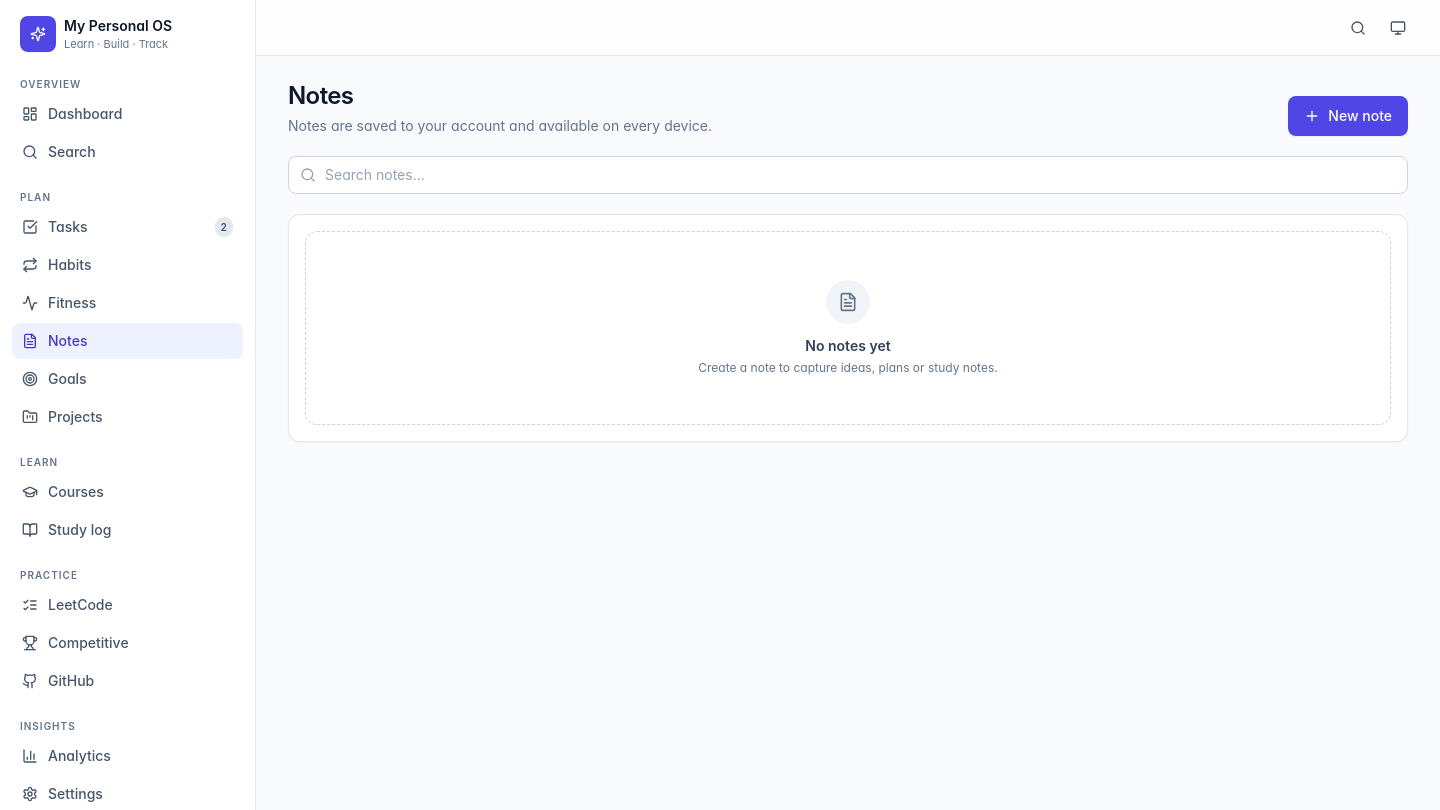
Test: fitness and notes › creates searchable notes
Expected: the heading "Notes" is shown, [288,81,354,110]
Click the button "New note".
click(1348, 116)  # box [1288,96,1408,136]
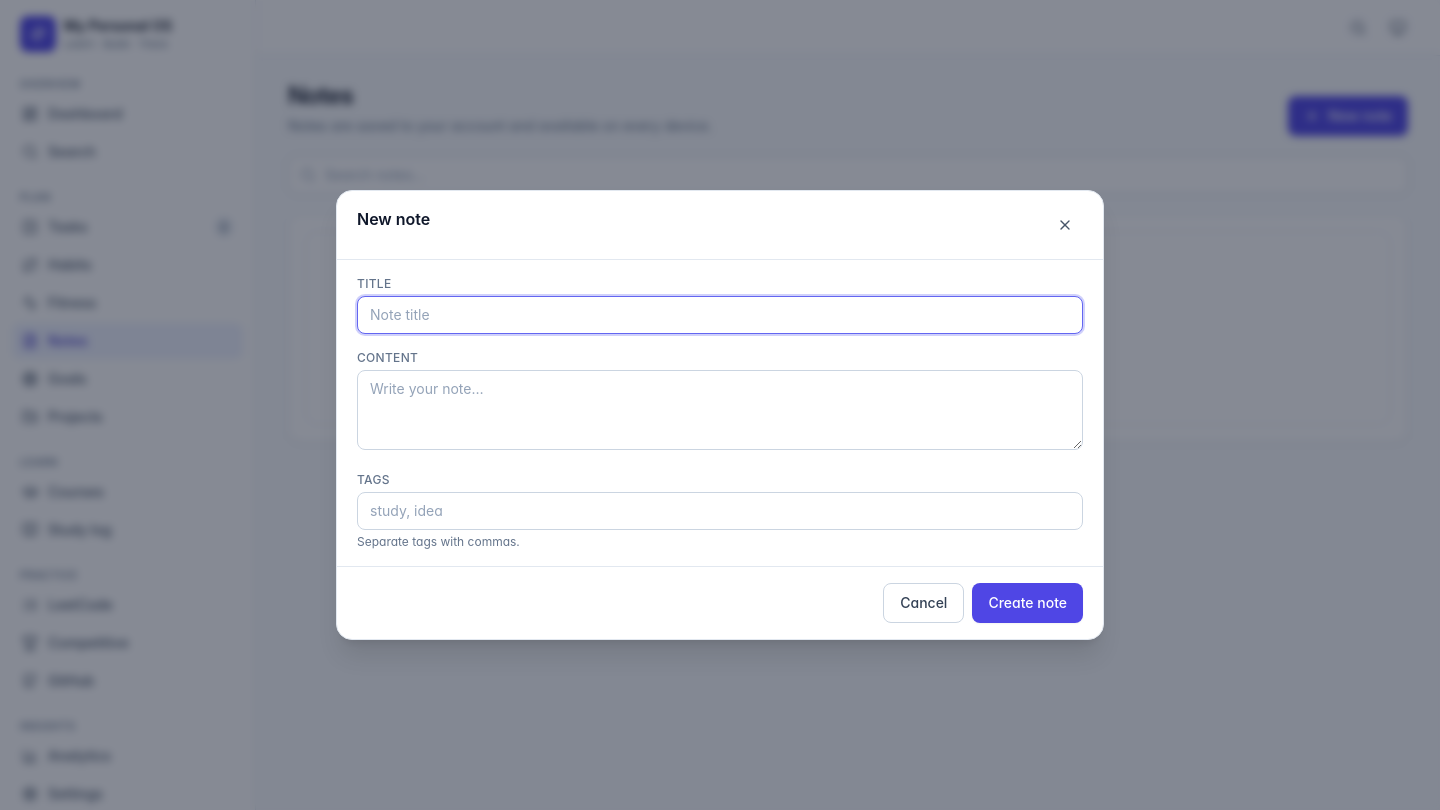
Type "Graph revision" into the field labelled "Title".
click(720, 315); type("Graph revision")  # box [357,296,1083,334]
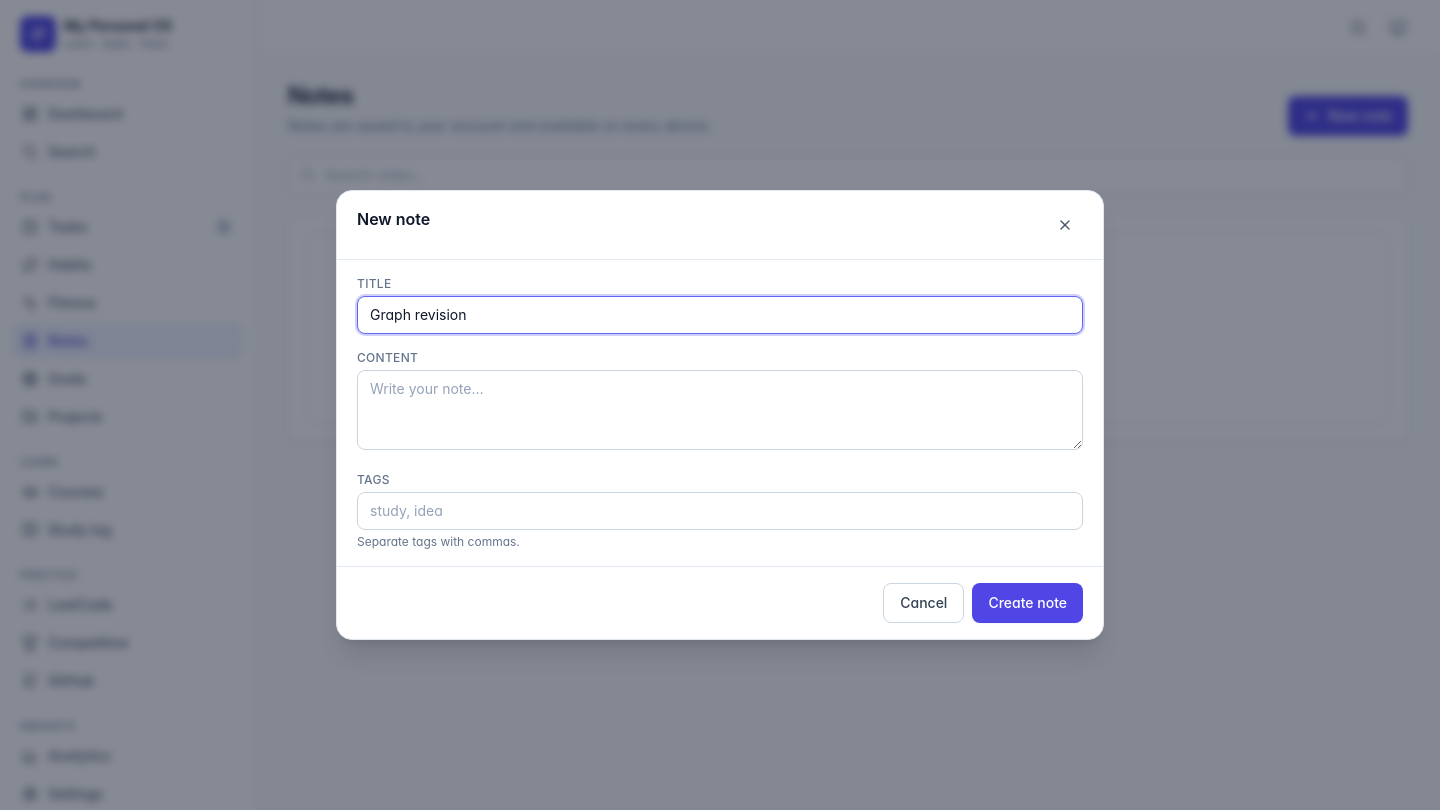
Type "Review BFS and DFS" into the text box labelled "Content".
click(720, 410); type("Review BFS and DFS")  # box [357,370,1083,450]
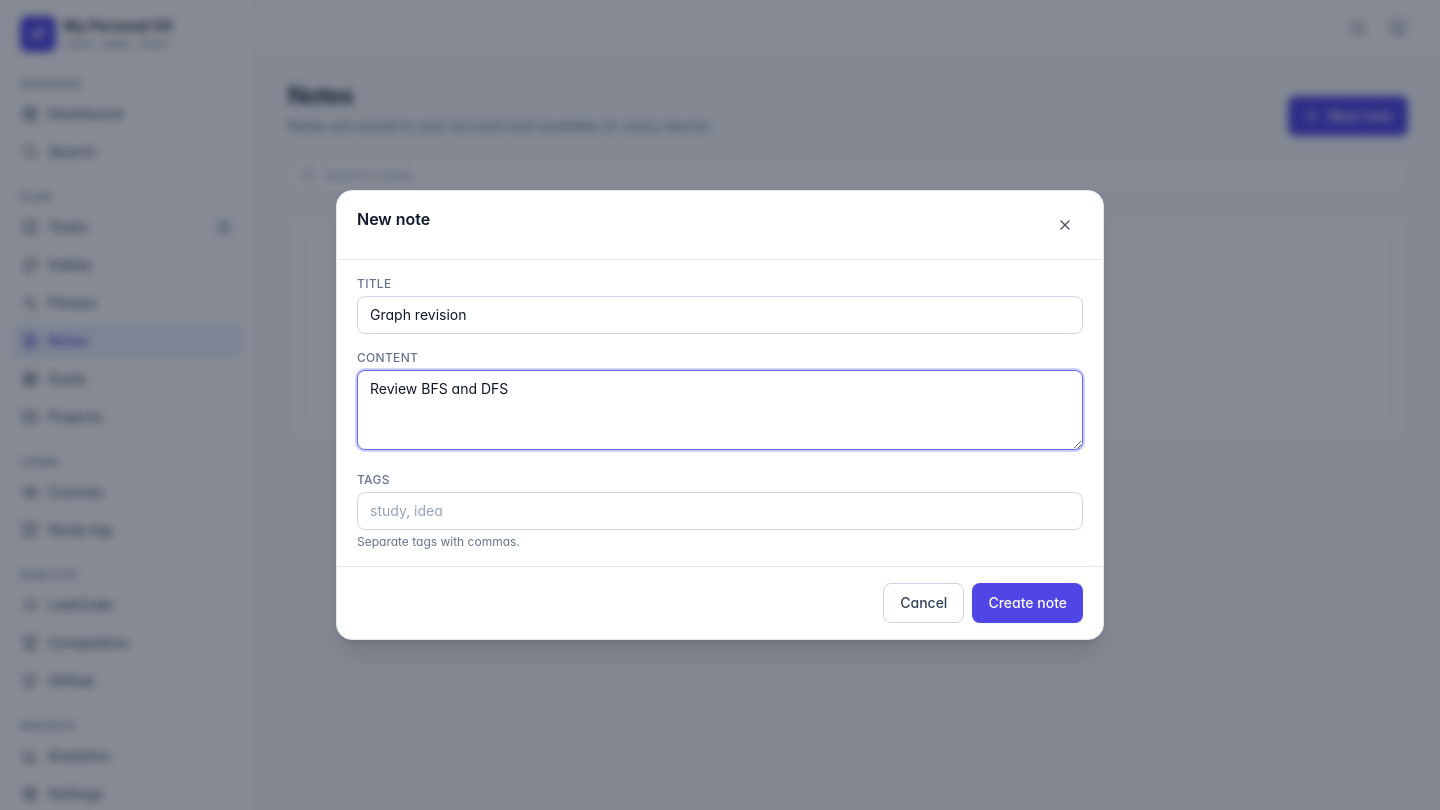
Type "study, dsa" into the field labelled "Tags".
click(720, 511); type("study, dsa")  # box [357,492,1083,530]
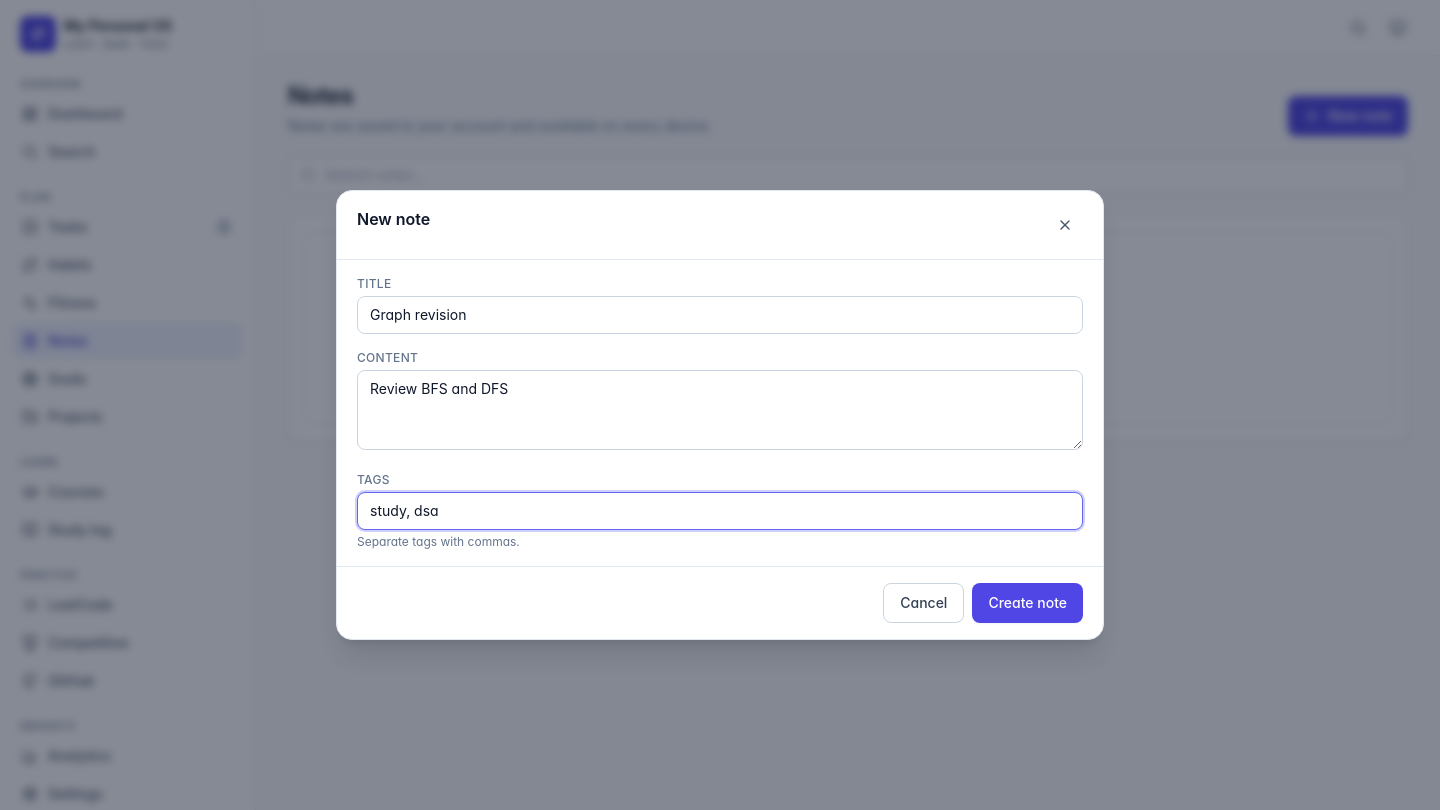
Click the button "Create note".
click(1028, 603)  # box [972,583,1083,623]
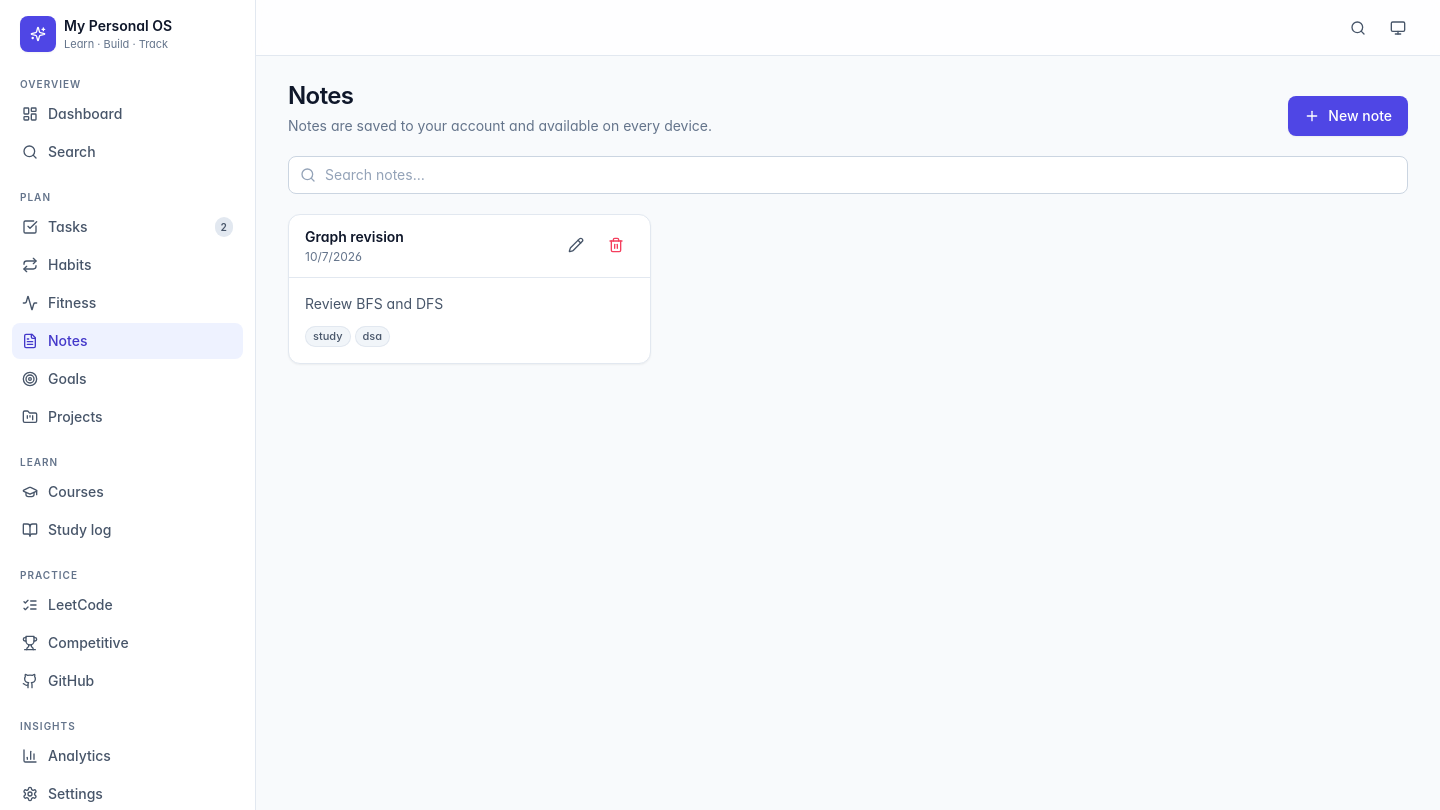
Now the heading "Graph revision" is shown, box [305,227,404,247]
